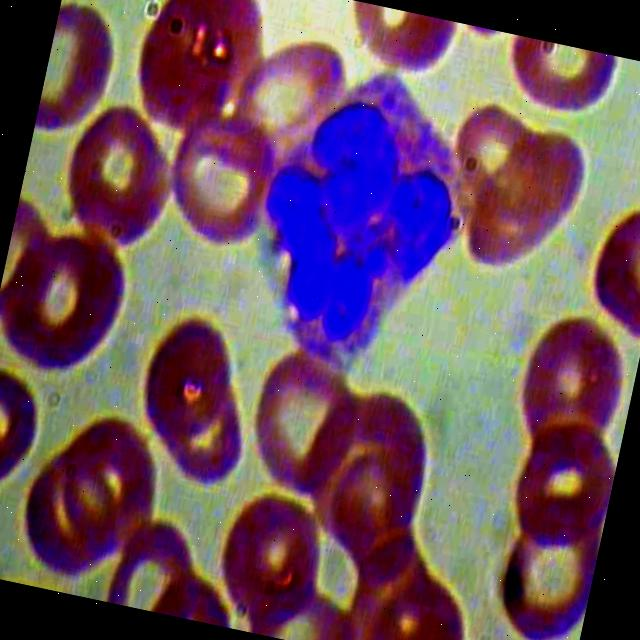RBC: (460, 111, 603, 291), (235, 330, 378, 510), (502, 301, 640, 471), (52, 100, 190, 264), (120, 294, 258, 458), (206, 481, 342, 640), (158, 105, 282, 264), (497, 415, 622, 559), (476, 508, 603, 640)
WBC: (222, 40, 504, 391)
